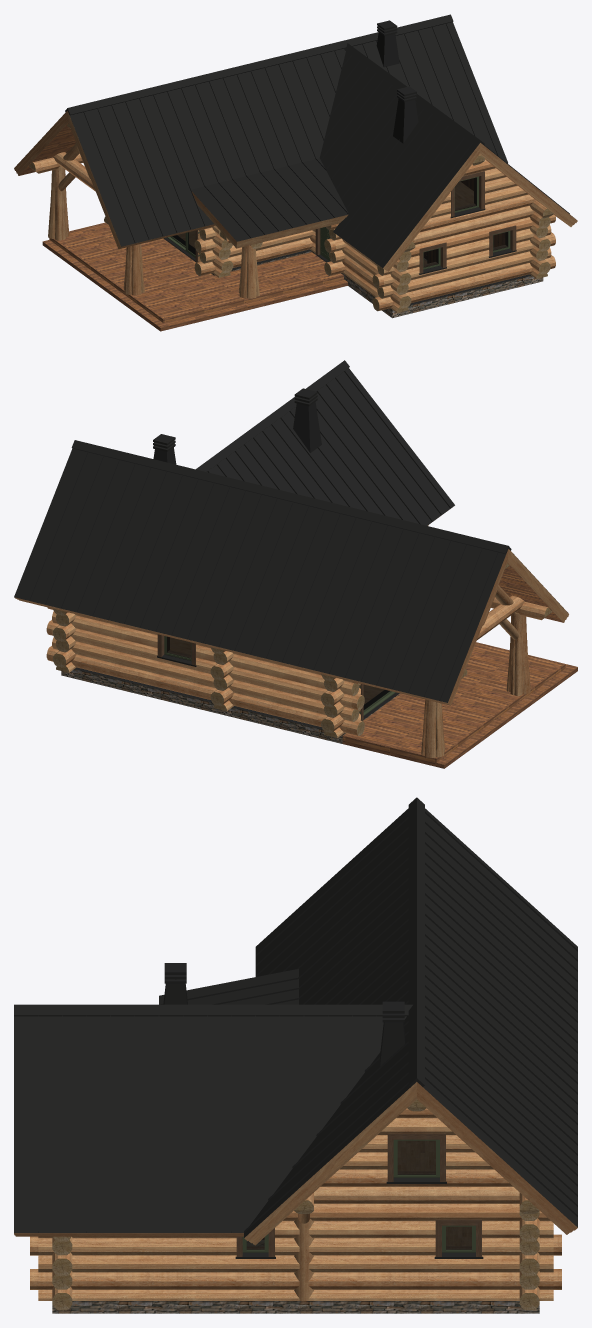
The picture shows the model from 3 angles, top to bottom: view 1: azimuth 30°, elevation 25°; view 2: azimuth 150°, elevation 25°; view 3: azimuth 270°, elevation 25°; orthographic projection. The views are drawn at different scales.
Parts seen in each view (by area): view 1: Material9, Material5, Material6, Material3, Material22, Material4, Material26, Material8, Material35, Material27, Material28; view 2: Material9, Material5, Material6, Material3, Material26, Material22, Material4, Material35; view 3: Material9, Material5, Material3, Material26, Material4, Material8, Material35, Material28, Material27, Material22.
Boxes of the visible parts, x1=… form: Material9: x1=17, y1=14, x2=572, y2=305; Material5: x1=33, y1=152, x2=555, y2=312; Material6: x1=20, y1=123, x2=568, y2=331; Material3: x1=14, y1=111, x2=577, y2=271; Material22: x1=48, y1=166, x2=259, y2=298; Material4: x1=29, y1=123, x2=553, y2=312; Material26: x1=163, y1=238, x2=543, y2=318; Material8: x1=195, y1=171, x2=516, y2=273; Material35: x1=172, y1=177, x2=508, y2=267; Material27: x1=167, y1=176, x2=510, y2=269; Material28: x1=178, y1=182, x2=473, y2=263; Material9: x1=14, y1=360, x2=567, y2=729; Material5: x1=46, y1=595, x2=547, y2=737; Material6: x1=342, y1=562, x2=577, y2=768; Material3: x1=14, y1=507, x2=568, y2=705; Material26: x1=61, y1=669, x2=399, y2=743; Material22: x1=421, y1=613, x2=530, y2=757; Material4: x1=53, y1=525, x2=552, y2=737; Material35: x1=166, y1=636, x2=390, y2=710; Material9: x1=14, y1=797, x2=577, y2=1258; Material5: x1=30, y1=1108, x2=561, y2=1300; Material3: x1=14, y1=1082, x2=577, y2=1245; Material26: x1=52, y1=1301, x2=539, y2=1313; Material4: x1=52, y1=1099, x2=539, y2=1310; Material8: x1=14, y1=1133, x2=481, y2=1256; Material35: x1=246, y1=1140, x2=471, y2=1249; Material28: x1=398, y1=1141, x2=471, y2=1245; Material27: x1=242, y1=1139, x2=475, y2=1252; Material22: x1=294, y1=1218, x2=313, y2=1301.
Size of the model in its own units: 16.5 by 7.57 by 14.
21 materials, 12 textured.
